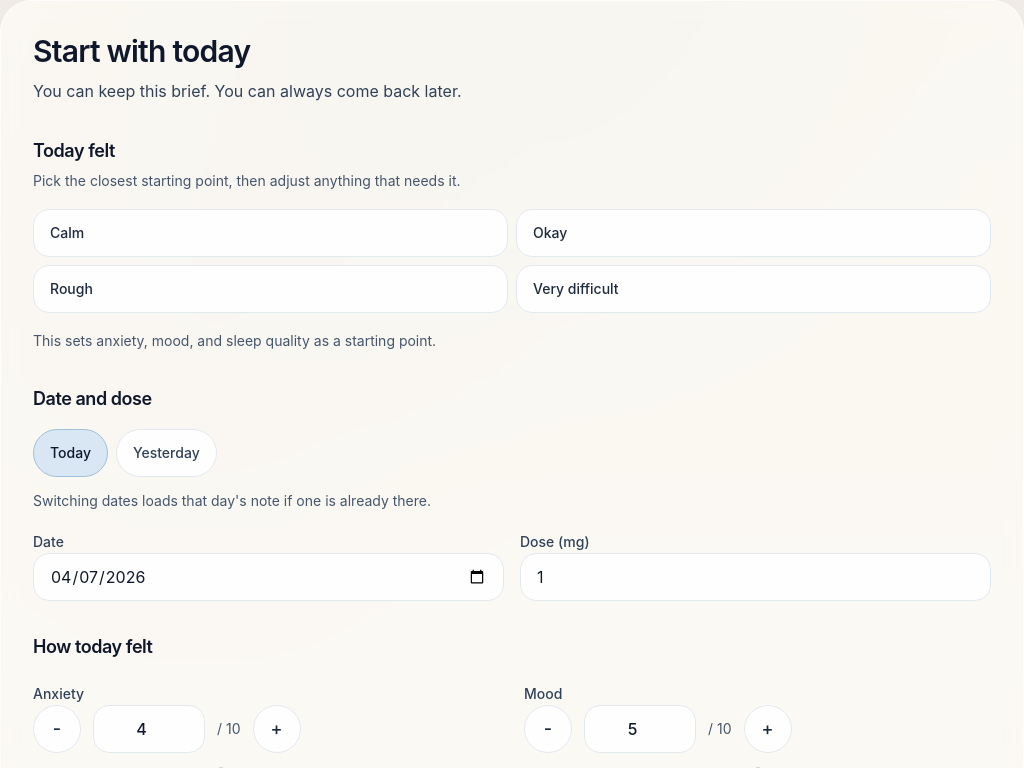
DailyCheckInForm presets › clicking a preset visibly updates the scores
Click the button "Calm". click: (67, 232)
box: top-left (33, 209), bottom-right (508, 257)
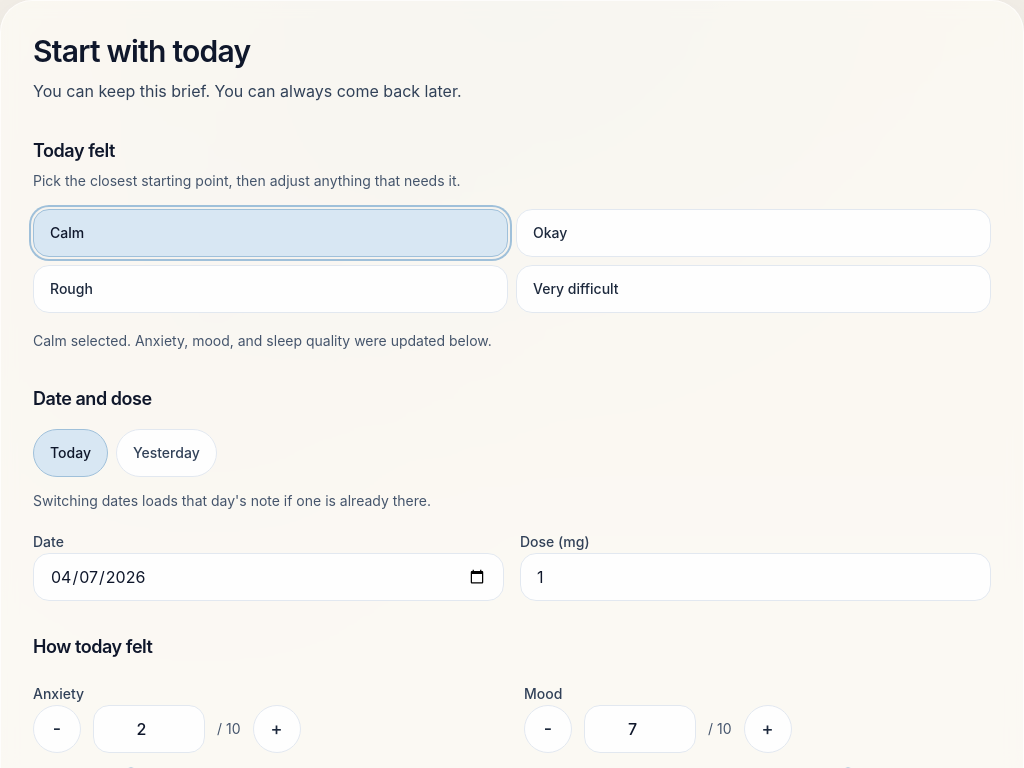
Expected: the number field named "Anxiety score" holds "2", top-left (93, 705), bottom-right (205, 753)
Expected: the number field named "Mood score" holds "7", top-left (584, 705), bottom-right (696, 753)
Expected: the text "Calm selected. Anxiety, mood, and sleep quality were updated below." is shown, top-left (33, 332), bottom-right (492, 349)
